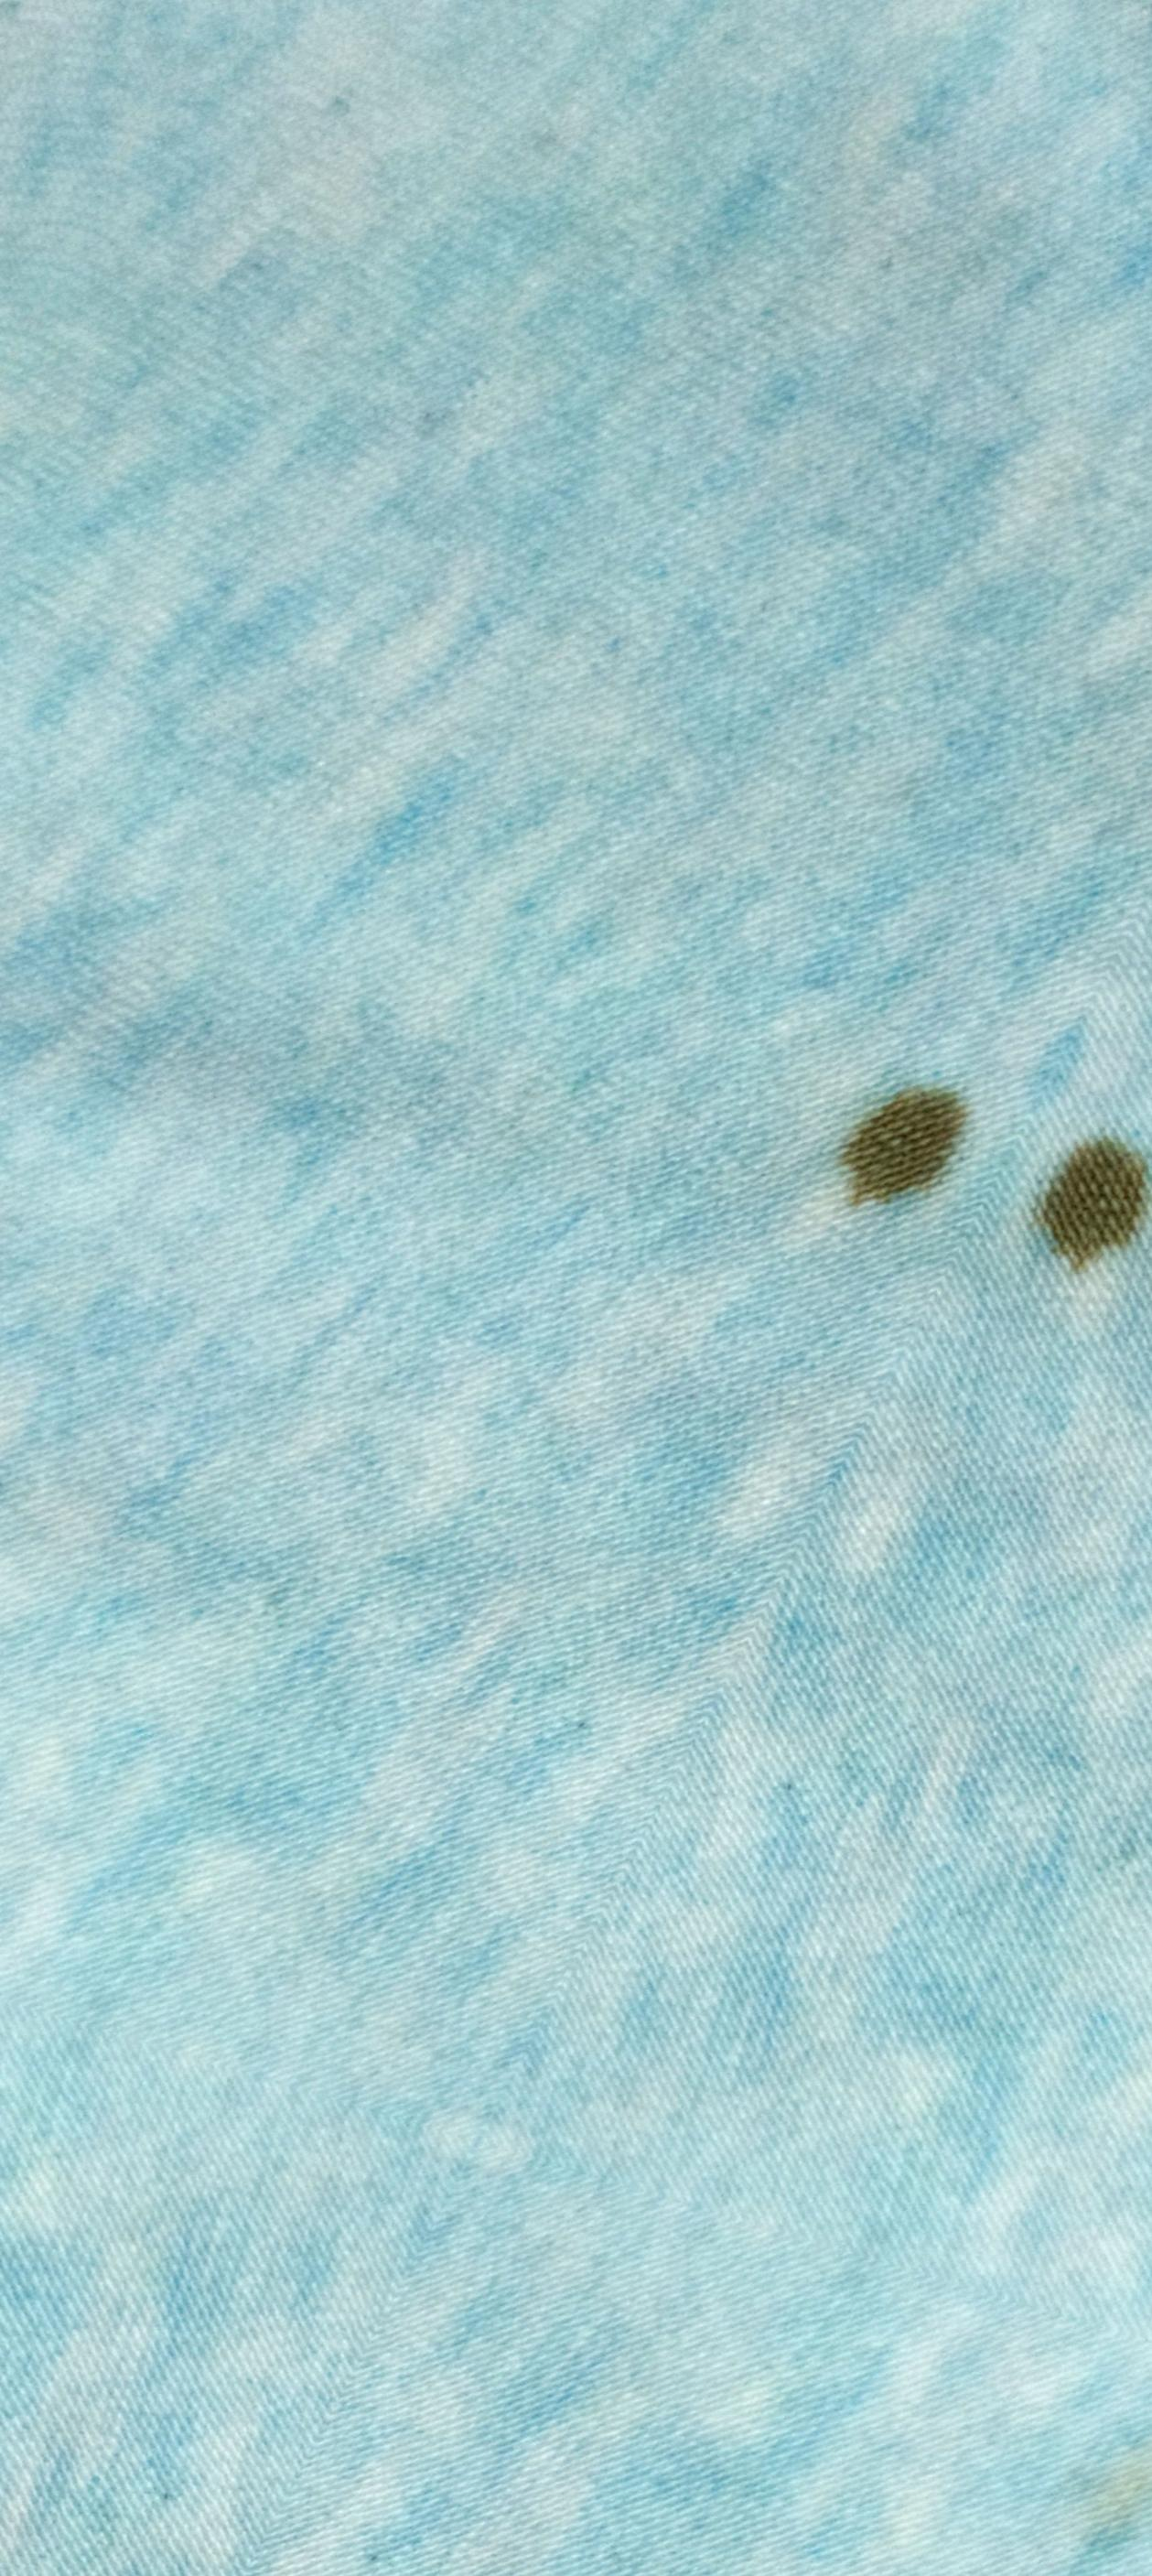stain: (818, 1032, 971, 1219), (1030, 1111, 1152, 1322)
